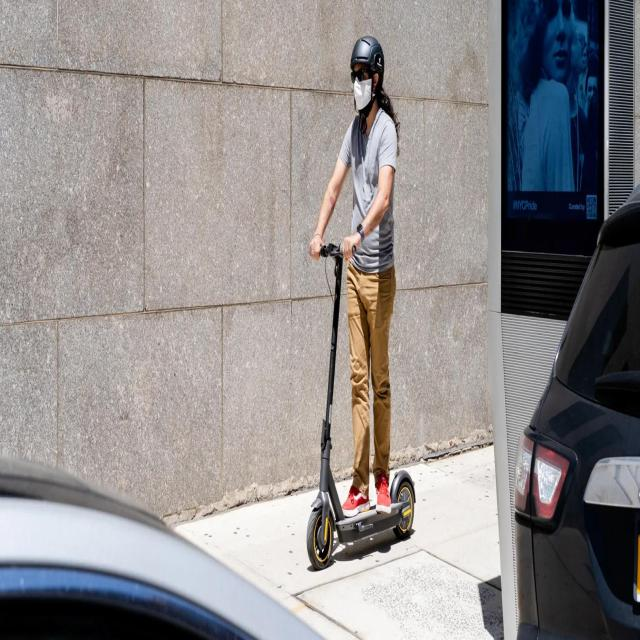Helmet: (351, 33, 385, 111)
